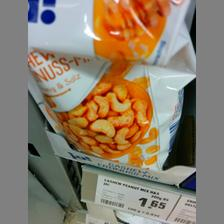Nuss: (28, 47, 184, 173)
